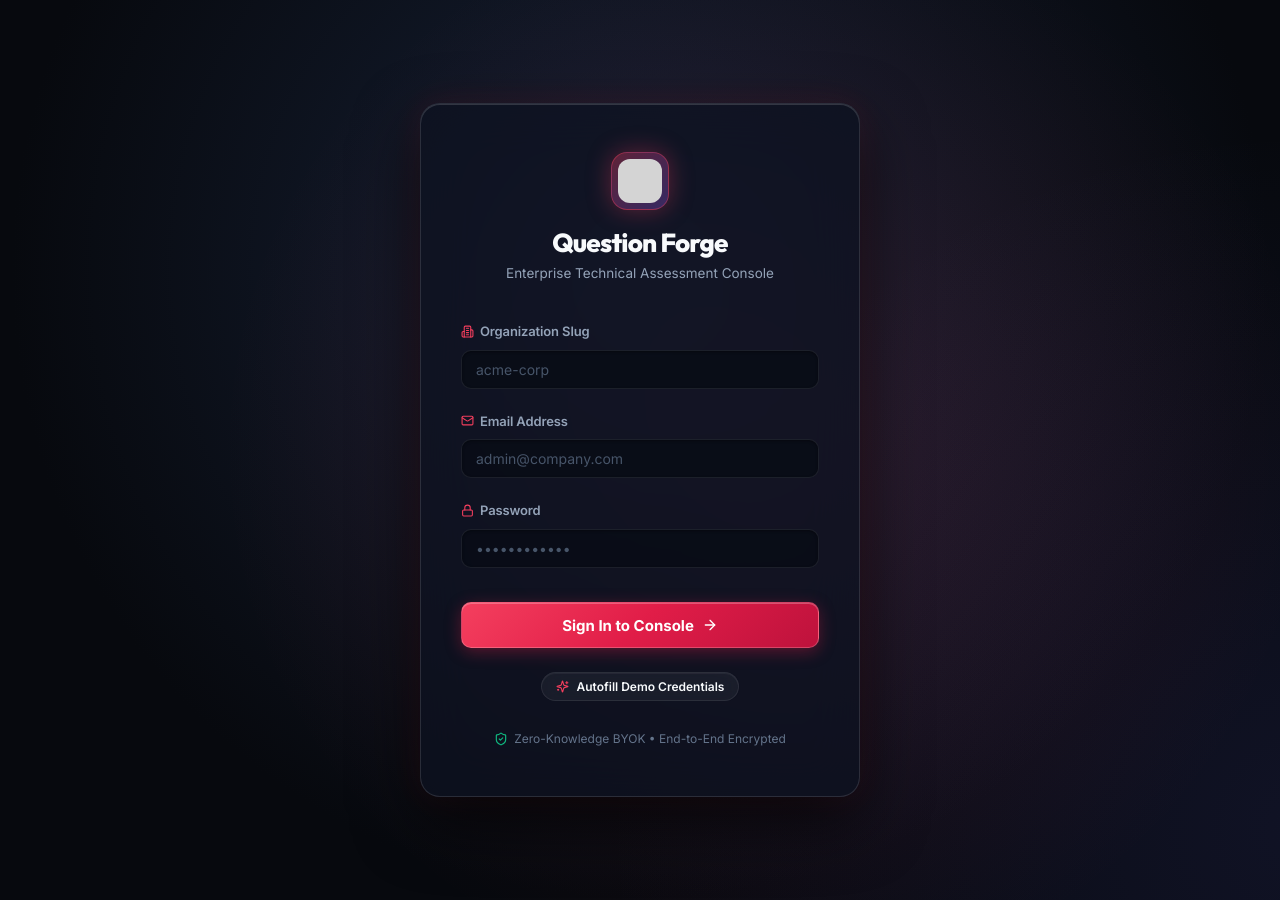
Test: LoginPage › fills the demo credentials when the autofill button is clicked
Click the button "Autofill Demo Credentials" at (640, 687), box left=540, top=672, right=740, bottom=701
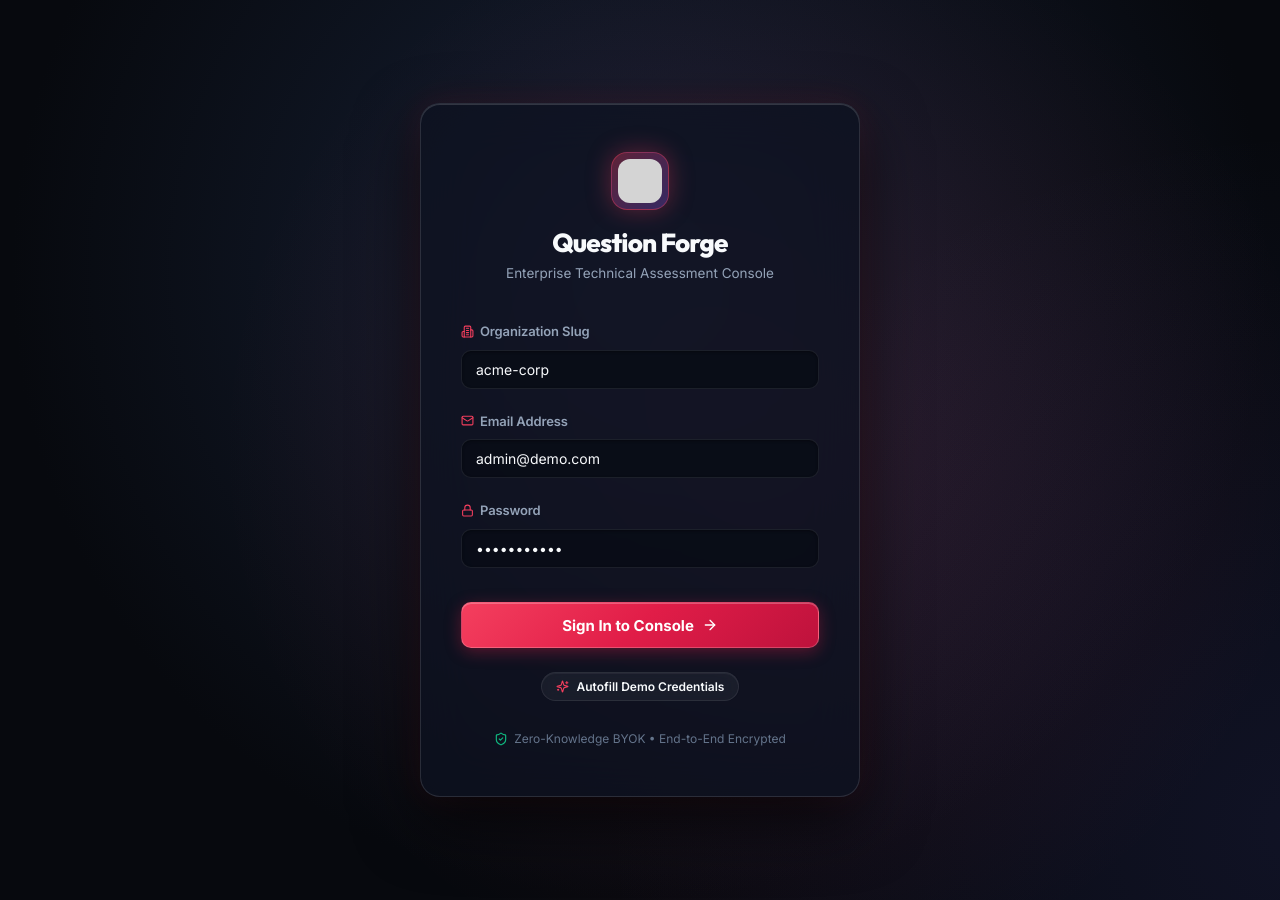
Now the field with placeholder "acme-corp" below "Organization Slug" holds "acme-corp", box left=461, top=350, right=819, bottom=389
Now the field with placeholder "admin@company.com" below "Email Address" holds "admin@demo.com", box left=461, top=439, right=819, bottom=478
